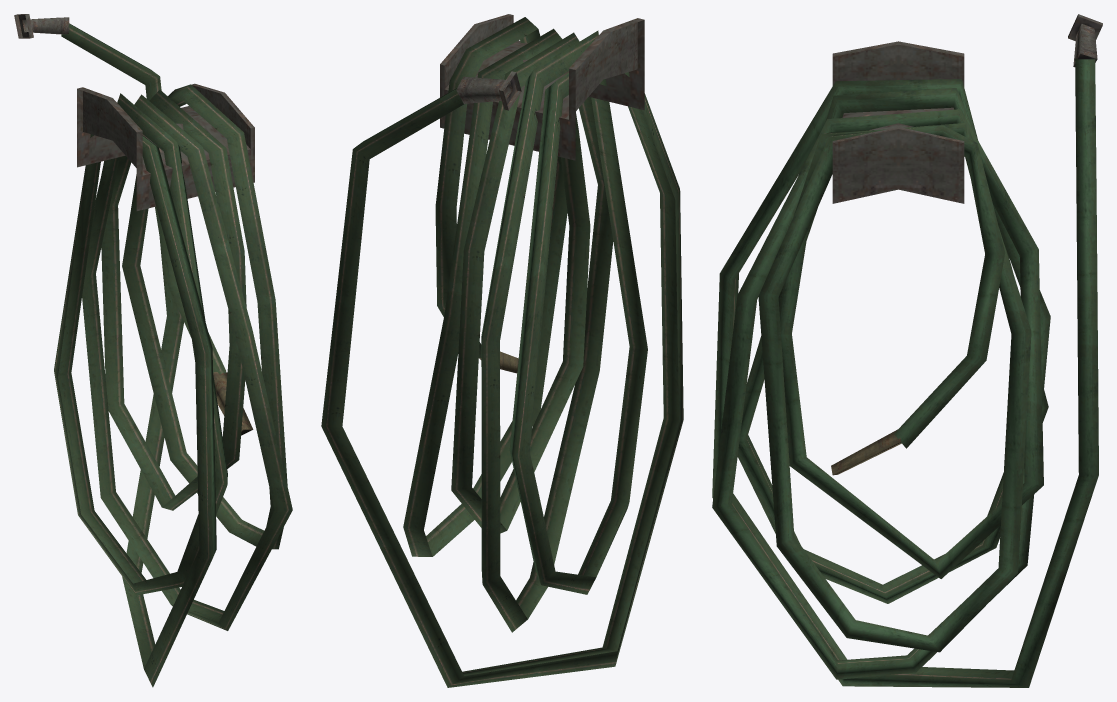
The model's file is machinery_hose02_lod3.glb.
3 renders of one model, left to right at view 1: azimuth 30°, elevation 25°; view 2: azimuth 150°, elevation 25°; view 3: azimuth 270°, elevation 25°, orthographic. The views are drawn at different scales.
Parts seen in each view (by area): view 1: surf0; view 2: surf0; view 3: surf0.
Boxes of the visible parts, x1,y1,x2,y2 form: surf0: (14, 14, 292, 687); surf0: (321, 14, 683, 687); surf0: (712, 14, 1102, 687).
Bounding box in the file's own units: 12.79 × 45.73 × 24.49.
